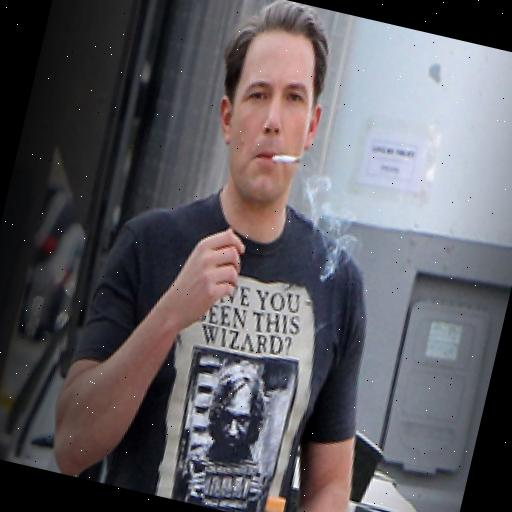terdeteksi merokok: (219, 73, 326, 208)
